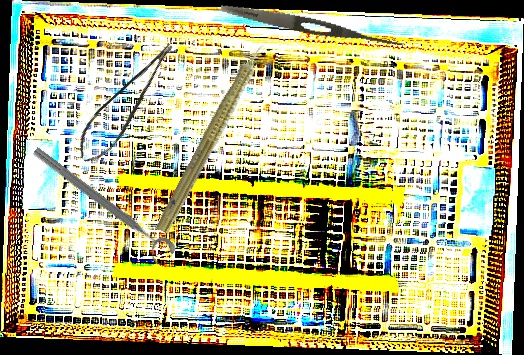Dressing Forceps: (219, 0, 406, 52)
Fixation Ring: (23, 143, 179, 269)
Handpiece: (151, 29, 281, 239)
Micro Scissor: (65, 39, 193, 170)
